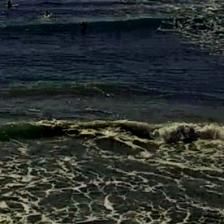surfer: (43, 10, 52, 18), (6, 0, 14, 8), (80, 21, 88, 29)
